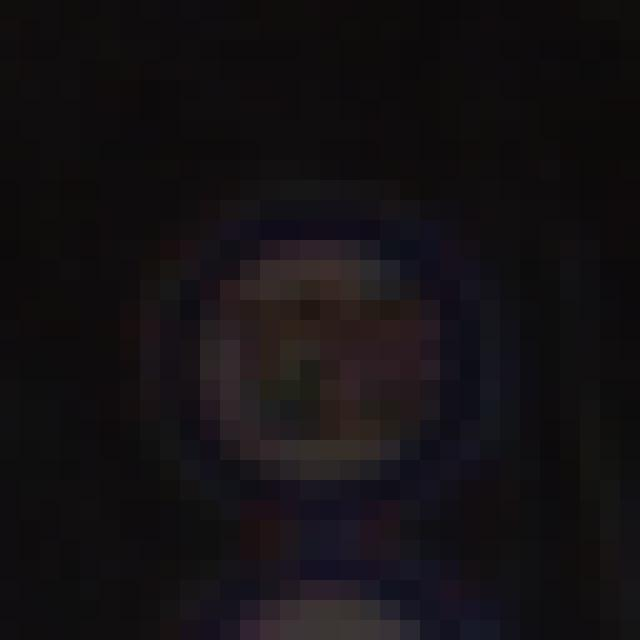SPEED LIMIT 120: (173, 209, 473, 507)
